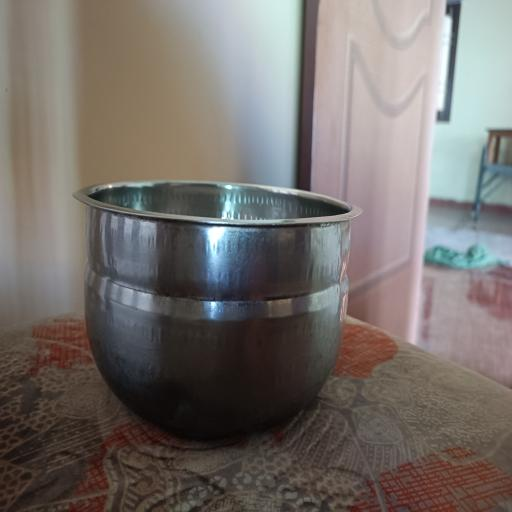vessel: (74, 181, 360, 437)
